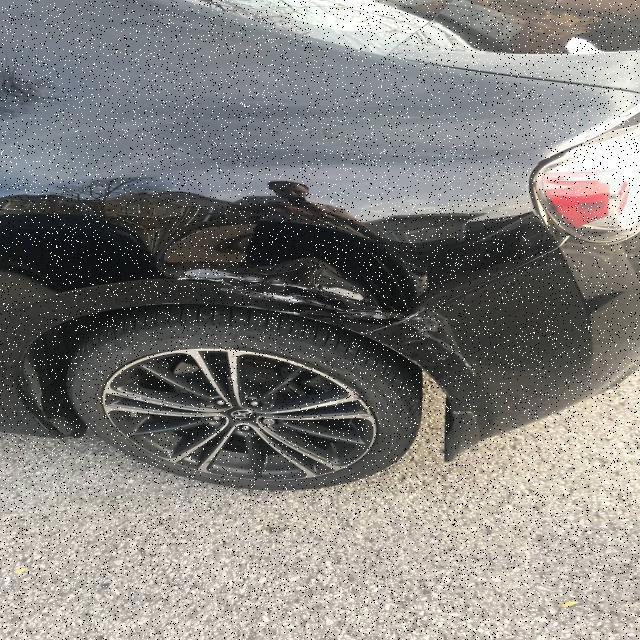car damage: (0, 178, 536, 402)
